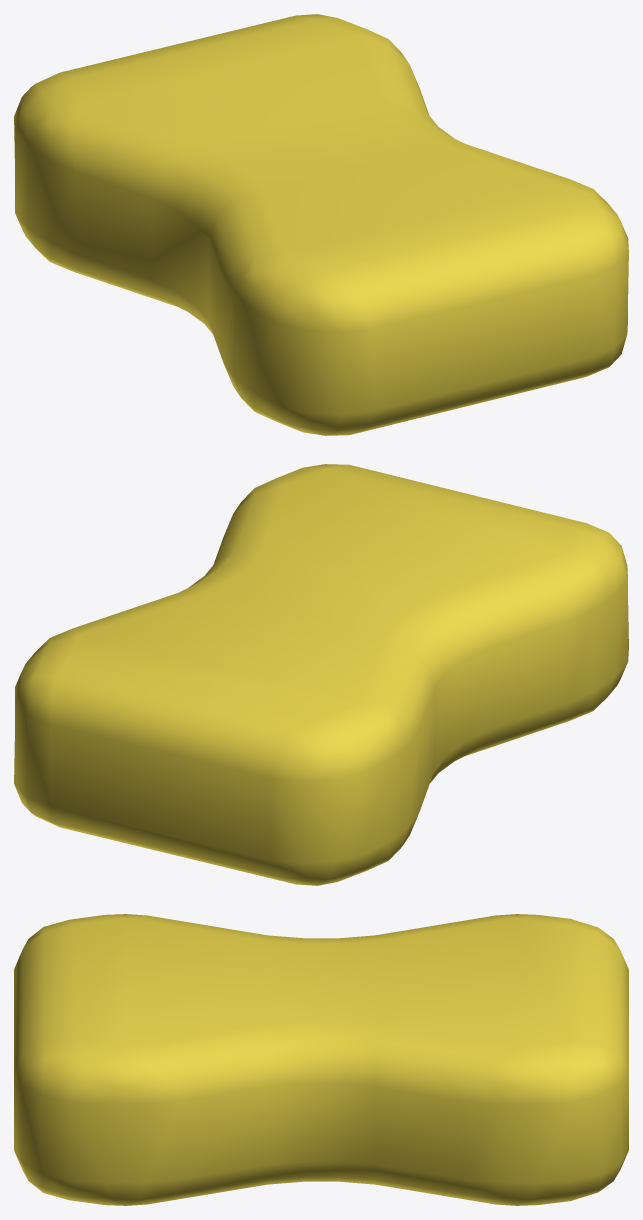
The model's file is Sponge.glb.
The picture shows the model from 3 angles, top to bottom: view 1: azimuth 30°, elevation 25°; view 2: azimuth 150°, elevation 25°; view 3: azimuth 270°, elevation 25°; orthographic projection. The views are drawn at different scales.
Parts seen in each view (by area): view 1: sponge; view 2: sponge; view 3: sponge.
Boxes of the visible parts, <box> form: sponge: <box>14,14,628,435</box>; sponge: <box>14,464,628,885</box>; sponge: <box>14,914,628,1205</box>.
Size of the model in its own units: 0.4978 by 0.2122 by 0.7703.
